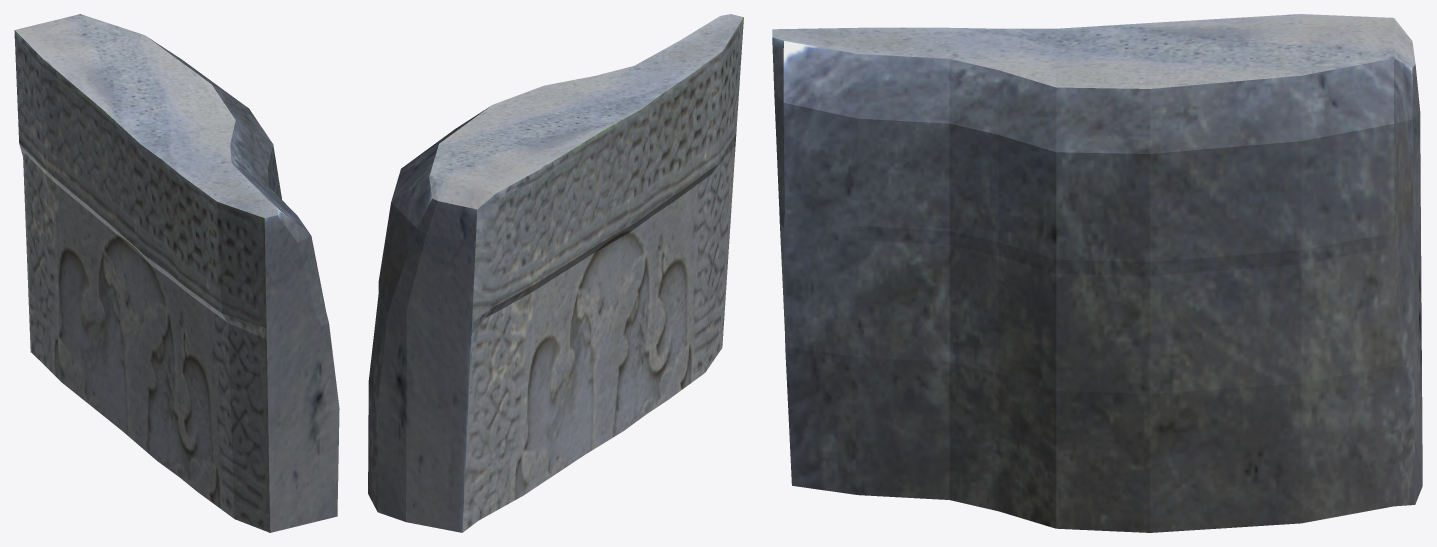
The model's file is top.fbx.
3 renders of one model, left to right at view 1: azimuth 30°, elevation 25°; view 2: azimuth 150°, elevation 25°; view 3: azimuth 270°, elevation 25°, orthographic. The views are drawn at different scales.
Parts seen in each view (by area): view 1: Stone45.001; view 2: Stone45.001; view 3: Stone45.001.
Boxes of the visible parts, x1,y1,x2,y2 form: Stone45.001: (14,14,339,532); Stone45.001: (368,14,743,532); Stone45.001: (772,14,1422,532).
Bounding box in the file's own units: 13.29 × 24.86 × 34.84.
